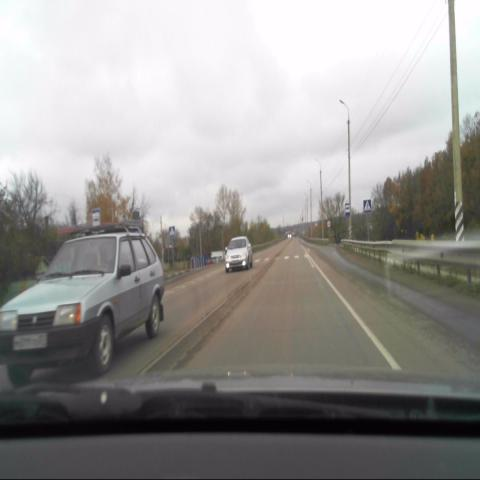5_16: (92, 209, 101, 230), (344, 202, 351, 219)
5_19_1: (363, 199, 371, 213), (169, 225, 175, 238)
